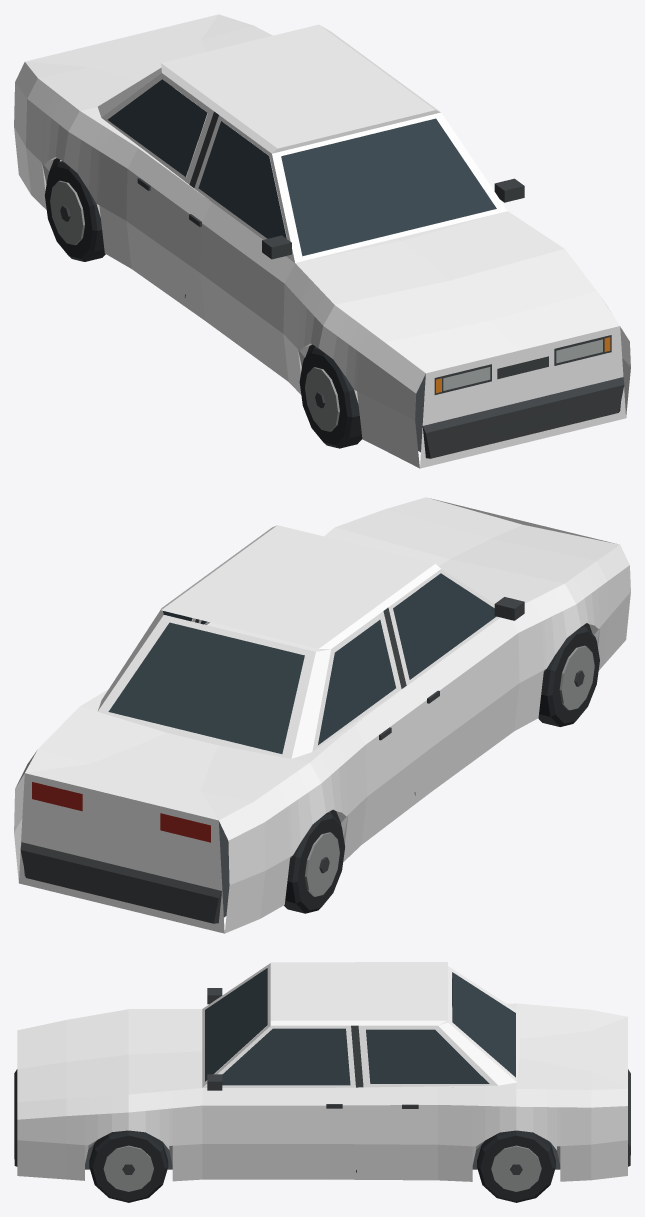
Rendered from hartwig_strecke.glb.
The picture shows the model from 3 angles, top to bottom: view 1: azimuth 30°, elevation 25°; view 2: azimuth 150°, elevation 25°; view 3: azimuth 270°, elevation 25°; orthographic projection. The views are drawn at different scales.
Visible parts, largest first — view 1: hartwig_strecke; view 2: hartwig_strecke; view 3: hartwig_strecke.
Boxes of the visible parts, x1,y1,x2,y2 form: hartwig_strecke: (14, 14, 630, 468); hartwig_strecke: (14, 497, 630, 933); hartwig_strecke: (14, 962, 630, 1202).
Size of the model in its own units: 1.83 by 1.45 by 4.9.
Materials: 8 (1 with a texture image).
